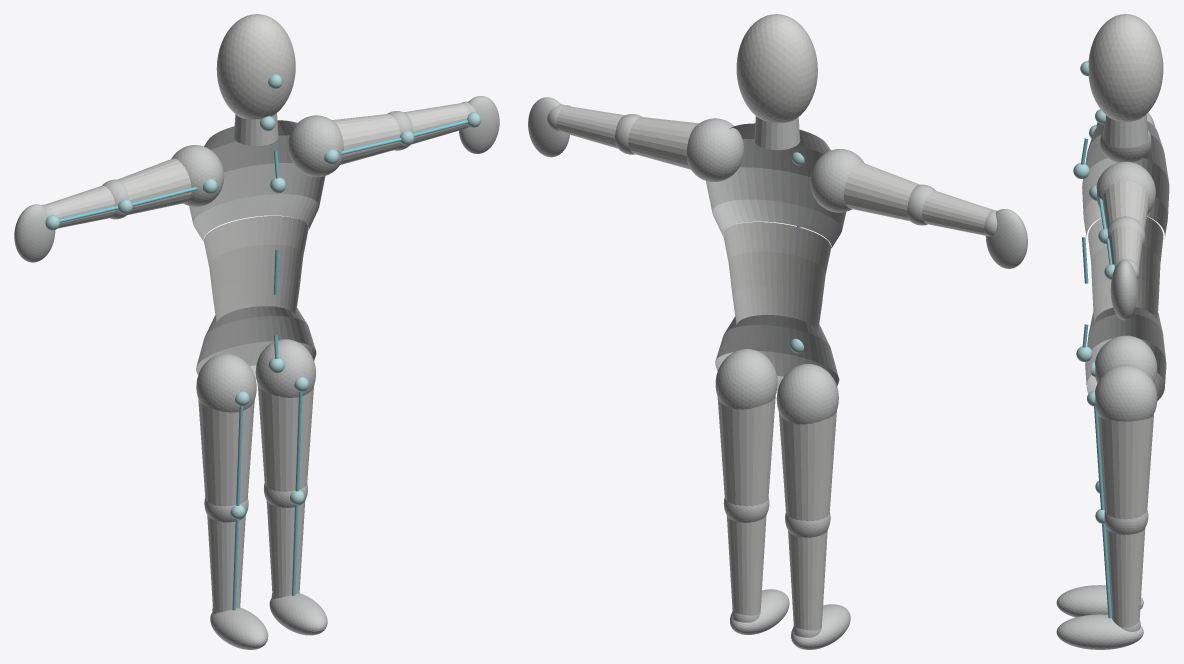
File: blue_faceless_mannequin.glb
3 views of the same model, side by side, from view 1: azimuth 30°, elevation 25°; view 2: azimuth 150°, elevation 25°; view 3: azimuth 270°, elevation 25° (orthographic). The views are drawn at different scales.
Parts seen in each view (by area): view 1: AbdomenBody, ChestBody, HeadBody, PelvisBody, RightThighMesh, LeftThighMesh, LeftShinMesh, RightShinMesh, LeftHipCap, RightShoulderCap, LeftUpperArmMesh, RightHipCap (+9 smaller); view 2: AbdomenBody, ChestBody, HeadBody, LeftThighMesh, RightThighMesh, PelvisBody, LeftShinMesh, RightShinMesh, RightHipCap, LeftHipCap, RightShoulderCap, LeftUpperArmMesh (+11 smaller); view 3: HeadBody, RightThighMesh, AbdomenBody, ChestBody, RightShinMesh, PelvisBody, RightHipCap, RightFootMesh, LeftHipCap, RightUpperArmMesh, LeftFootMesh, RightShoulderCap (+11 smaller).
Boxes of the visible parts, <box> form: AbdomenBody: <box>203,216,308,323</box>; ChestBody: <box>189,120,325,241</box>; HeadBody: <box>216,14,295,119</box>; PelvisBody: <box>196,306,316,379</box>; RightThighMesh: <box>257,384,313,491</box>; LeftThighMesh: <box>198,399,254,506</box>; LeftShinMesh: <box>207,515,245,612</box>; RightShinMesh: <box>266,501,305,597</box>; LeftHipCap: <box>196,353,256,412</box>; RightShoulderCap: <box>288,115,343,177</box>; LeftUpperArmMesh: <box>117,158,191,214</box>; RightHipCap: <box>255,339,315,397</box>; AbdomenBody: <box>723,222,831,333</box>; ChestBody: <box>706,123,846,248</box>; HeadBody: <box>736,14,817,122</box>; LeftThighMesh: <box>778,410,836,521</box>; RightThighMesh: <box>717,396,775,506</box>; PelvisBody: <box>715,315,839,390</box>; LeftShinMesh: <box>788,530,827,630</box>; RightShinMesh: <box>726,515,766,615</box>; RightHipCap: <box>715,349,777,409</box>; LeftHipCap: <box>776,364,838,424</box>; RightShoulderCap: <box>686,118,744,181</box>; LeftUpperArmMesh: <box>843,163,919,221</box>; HeadBody: <box>1088,14,1163,121</box>; RightThighMesh: <box>1097,414,1153,519</box>; AbdomenBody: <box>1088,217,1163,323</box>; ChestBody: <box>1082,121,1169,238</box>; RightShinMesh: <box>1106,528,1145,627</box>; PelvisBody: <box>1085,307,1166,400</box>; RightHipCap: <box>1095,365,1157,421</box>; RightFootMesh: <box>1056,614,1143,649</box>; LeftHipCap: <box>1095,335,1157,382</box>; RightUpperArmMesh: <box>1102,181,1149,230</box>; LeftFootMesh: <box>1056,585,1143,617</box>; RightShoulderCap: <box>1096,161,1155,213</box>.
Bounding box in the file's own units: 1.87 × 2.25 × 0.375.
